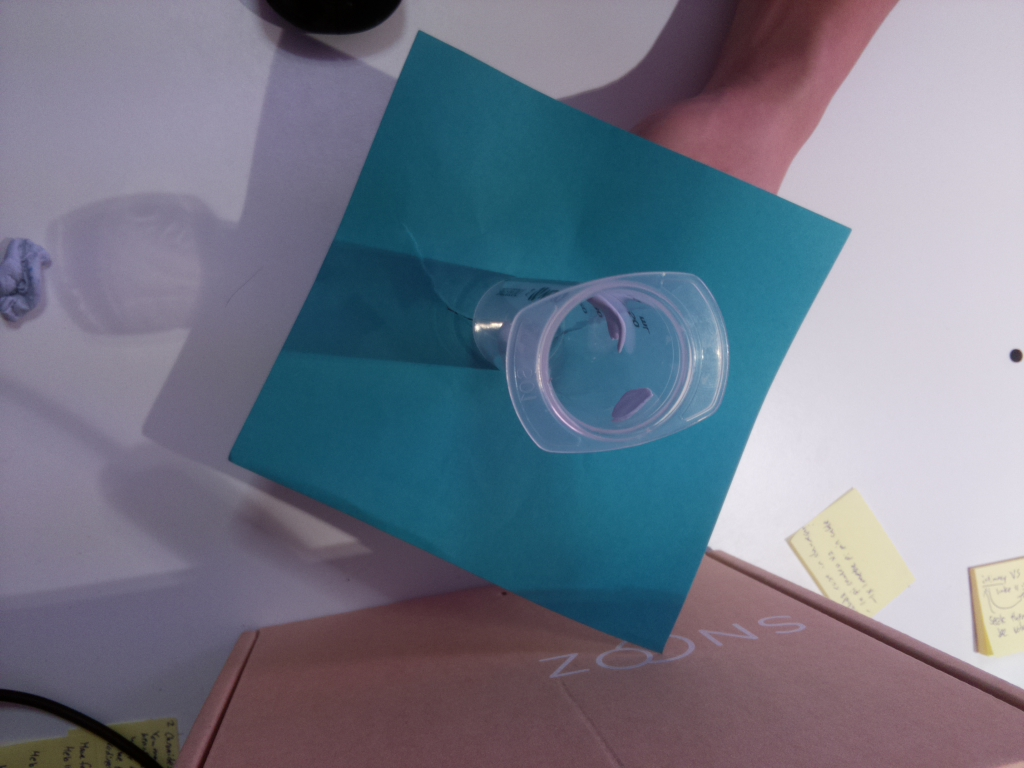dirty: (505, 268, 731, 452)
